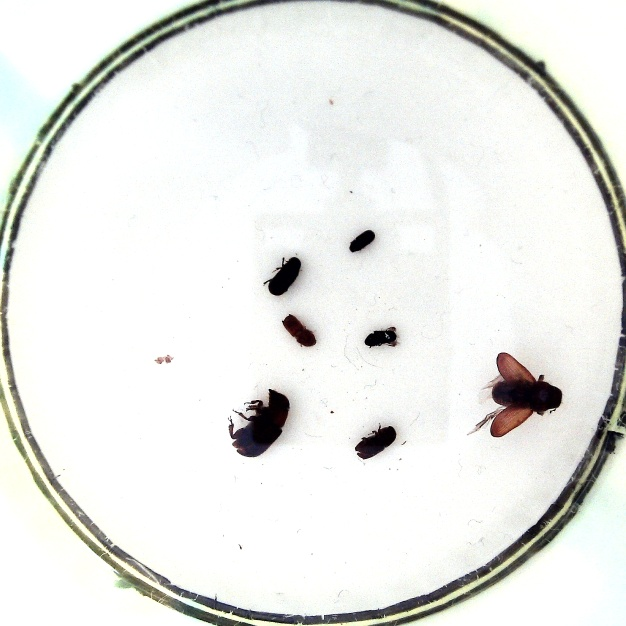acuminatus: (281, 313, 319, 346)
armandi: (262, 256, 301, 296)
coleoptera: (364, 322, 401, 353), (346, 228, 378, 257)
leconte: (475, 350, 564, 436), (224, 386, 293, 458)
linnaeus: (352, 423, 400, 460)
